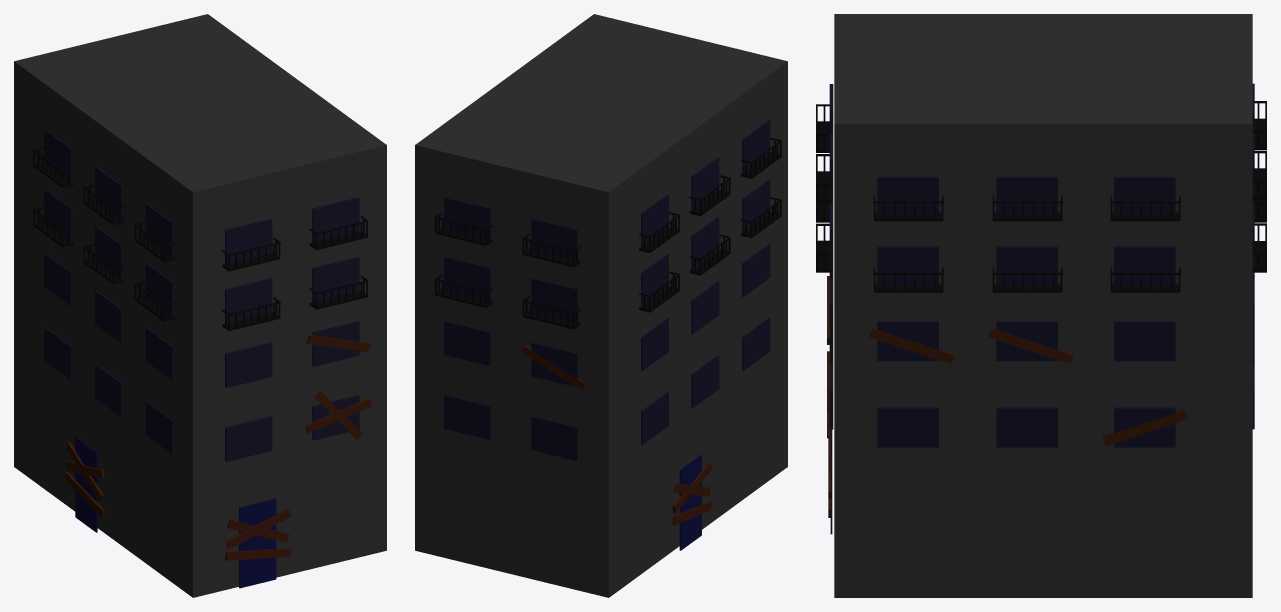
Rendered from Building4.FBX.
3 renders of one model, left to right at view 1: azimuth 30°, elevation 25°; view 2: azimuth 150°, elevation 25°; view 3: azimuth 270°, elevation 25°, orthographic. The views are drawn at different scales.
Visible parts, largest first — view 1: Box001, Box002, Box007, Box009, Box006, Box004, Box005, Box003, Box008, Box523, Box460, Box015 (+17 smaller); view 2: Box001, Box026, Box023, Box025, Box022, Box021, Box020, Box019, Box523, Box024, Box018, Box016 (+11 smaller); view 3: Box001, Box032, Box033, Box465, Box463, Box029, Box030, Box462, Box027, Box028, Box034, Box031 (+4 smaller).
Boxes of the visible parts, x1=… form: Box001: x1=14, y1=14, x2=386, y2=597; Box002: x1=239, y1=498, x2=276, y2=588; Box007: x1=225, y1=342, x2=272, y2=387; Box009: x1=225, y1=416, x2=272, y2=461; Box006: x1=312, y1=257, x2=359, y2=302; Box004: x1=312, y1=197, x2=359, y2=242; Box005: x1=225, y1=278, x2=272, y2=323; Box003: x1=225, y1=218, x2=272, y2=263; Box008: x1=312, y1=321, x2=359, y2=366; Box523: x1=75, y1=436, x2=97, y2=532; Box460: x1=145, y1=327, x2=173, y2=380; Box015: x1=44, y1=253, x2=72, y2=306; Box001: x1=415, y1=14, x2=787, y2=597; Box026: x1=531, y1=416, x2=577, y2=460; Box023: x1=444, y1=321, x2=490, y2=365; Box025: x1=444, y1=395, x2=490, y2=439; Box022: x1=531, y1=278, x2=577, y2=322; Box021: x1=444, y1=256, x2=490, y2=301; Box020: x1=531, y1=218, x2=577, y2=260; Box019: x1=444, y1=197, x2=490, y2=239; Box523: x1=679, y1=454, x2=701, y2=550; Box024: x1=531, y1=342, x2=577, y2=386; Box018: x1=691, y1=355, x2=719, y2=408; Box016: x1=691, y1=281, x2=719, y2=334; Box001: x1=834, y1=14, x2=1252, y2=597; Box032: x1=1114, y1=321, x2=1175, y2=361; Box033: x1=996, y1=407, x2=1057, y2=447; Box465: x1=877, y1=407, x2=938, y2=447; Box463: x1=877, y1=246, x2=938, y2=285; Box029: x1=996, y1=246, x2=1057, y2=285; Box030: x1=1114, y1=246, x2=1175, y2=285; Box462: x1=877, y1=176, x2=938, y2=213; Box027: x1=996, y1=176, x2=1057, y2=213; Box028: x1=1114, y1=176, x2=1175, y2=213; Box034: x1=1114, y1=407, x2=1175, y2=447; Box031: x1=996, y1=321, x2=1057, y2=361.
Bounding box in the file's own units: 55.78 × 100 × 86.31.
